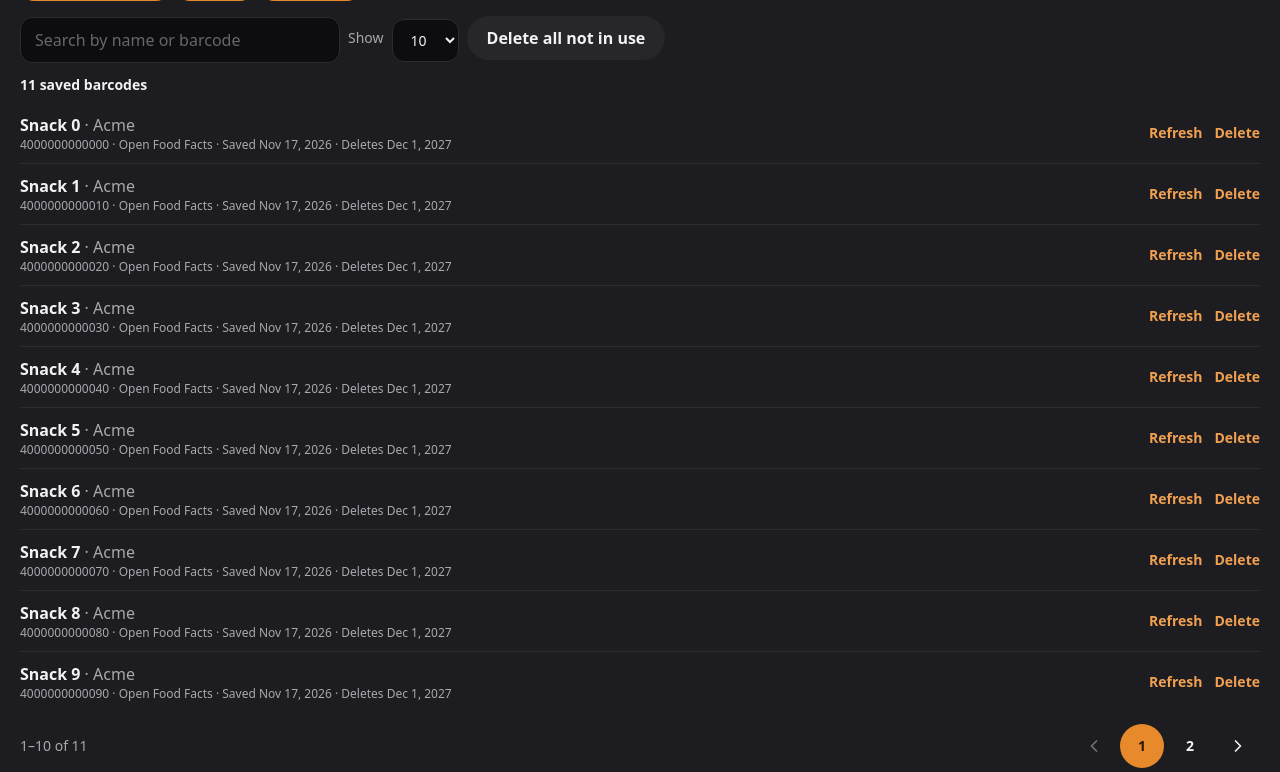
Settings › Cached data › after deleting the last row of the last page, the list goes back a page
The image size is (1280, 772).
(page scrolled)
Expected: the text "11 saved barcodes" is shown, [20,75,147,94]
Step 1. Click the button named "Next page" → (1238,746), box [1216,724,1260,768]
(page scrolled)
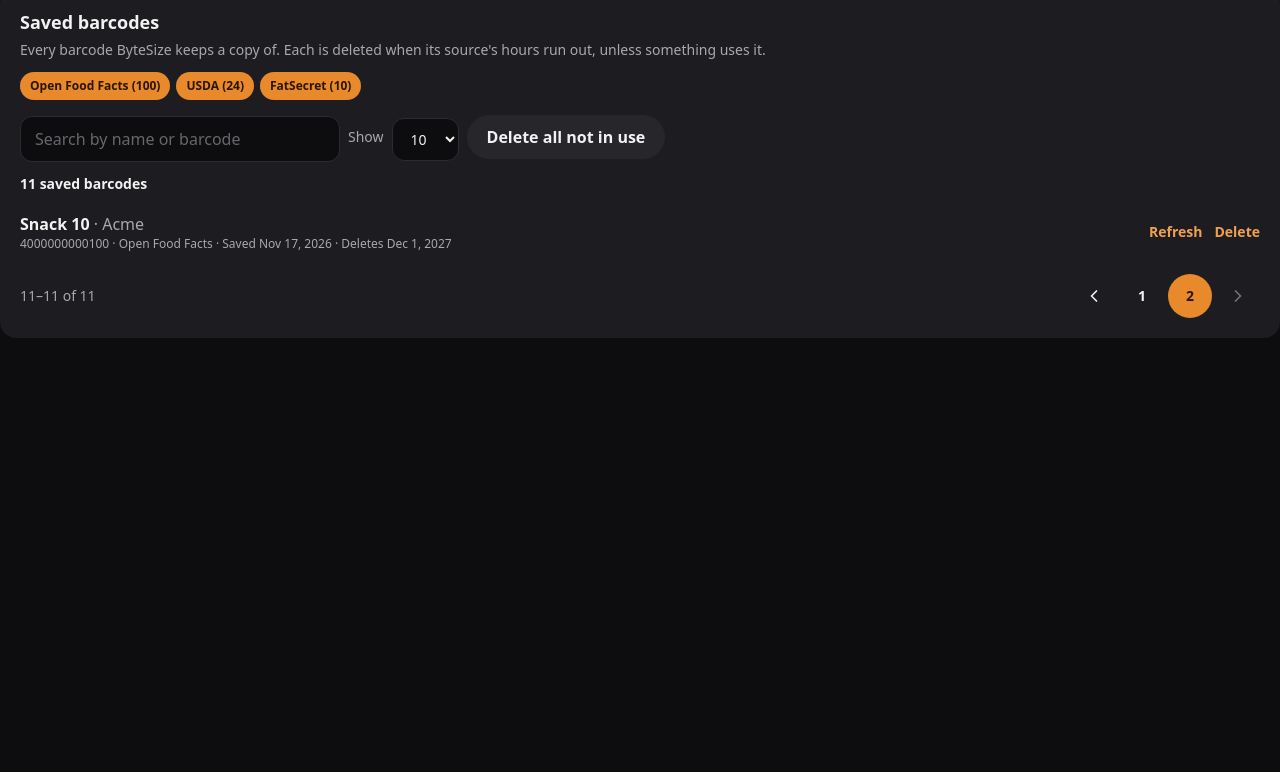
Step 2. Click the button with aria-label "Delete Snack 10" → (1237,232), box [1214,222,1260,242]
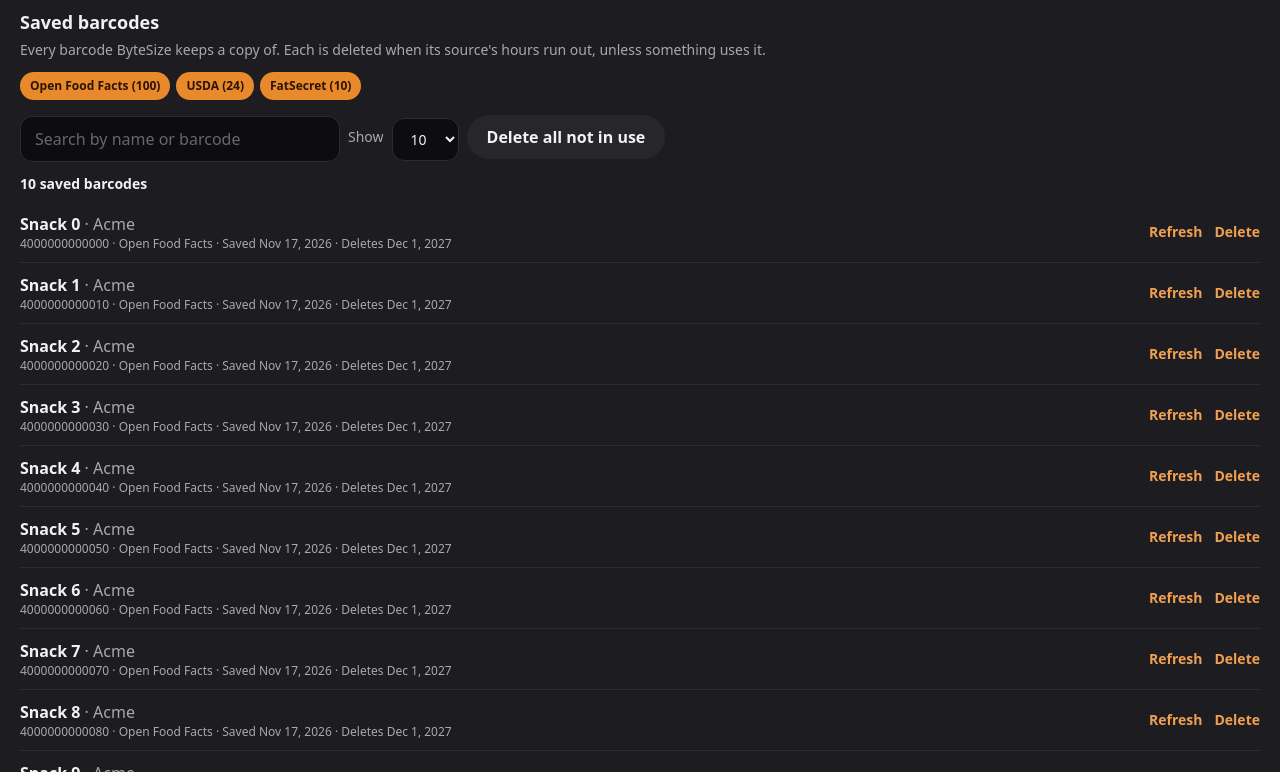
Result: the text "Snack 0" is shown at [20,213,80,235]
Result: the text "10 saved barcodes" is shown at [20,174,147,193]
